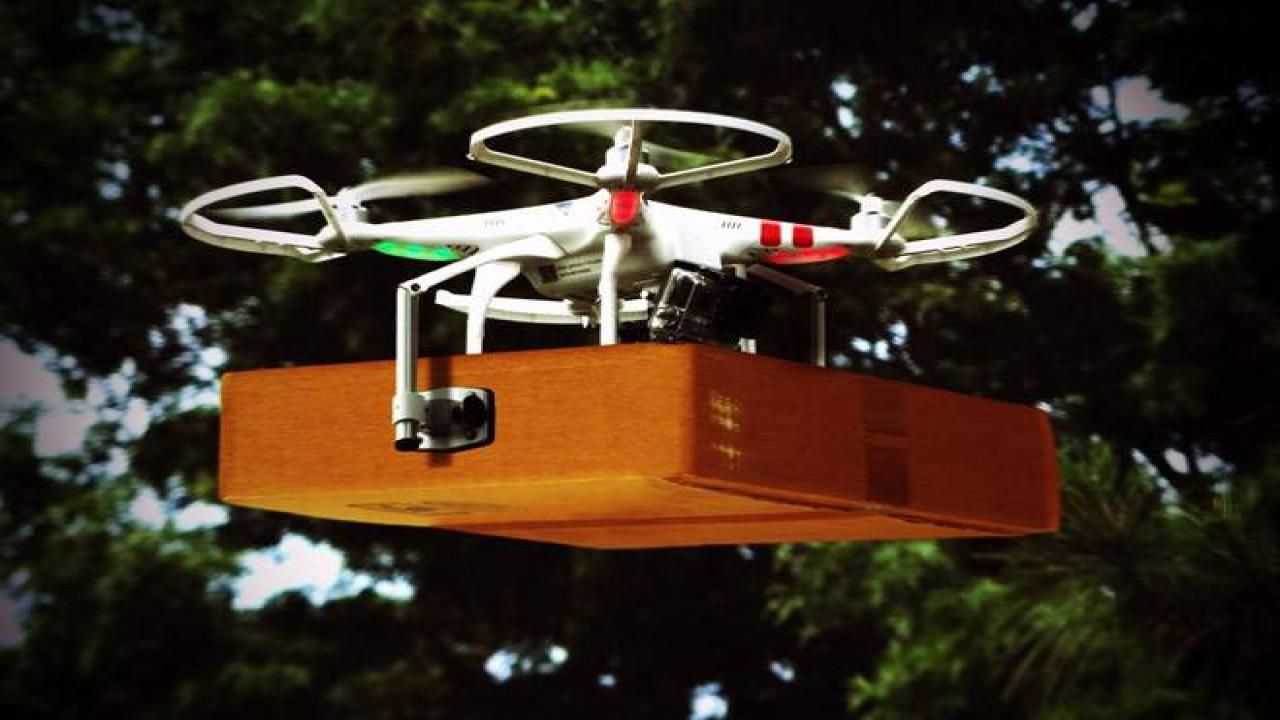Drone: (164, 90, 1052, 387)
